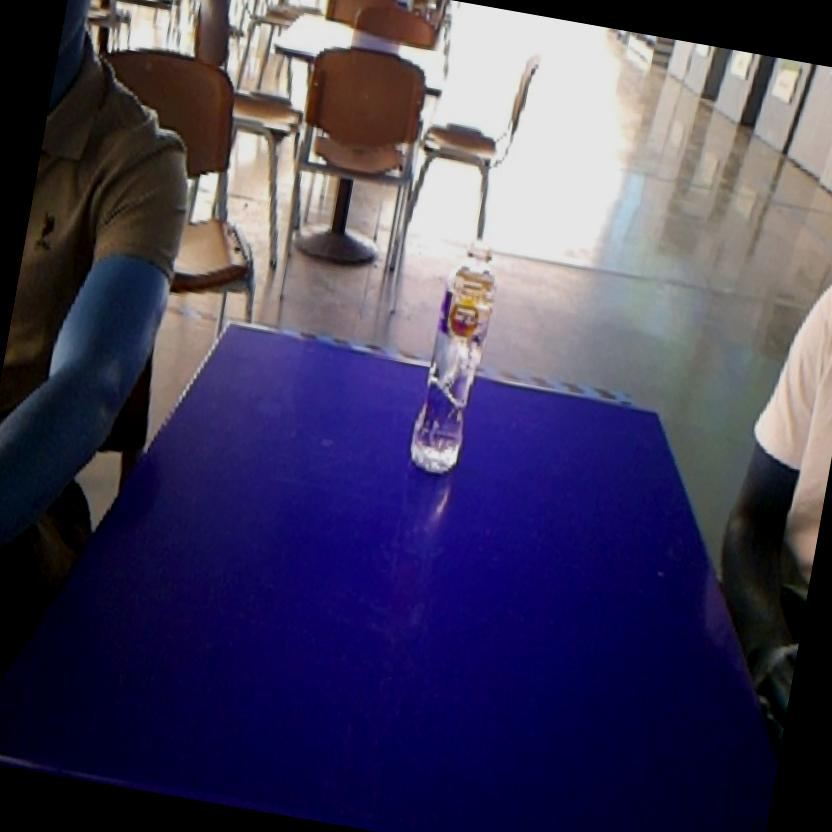no_cap: (399, 226, 515, 488)
